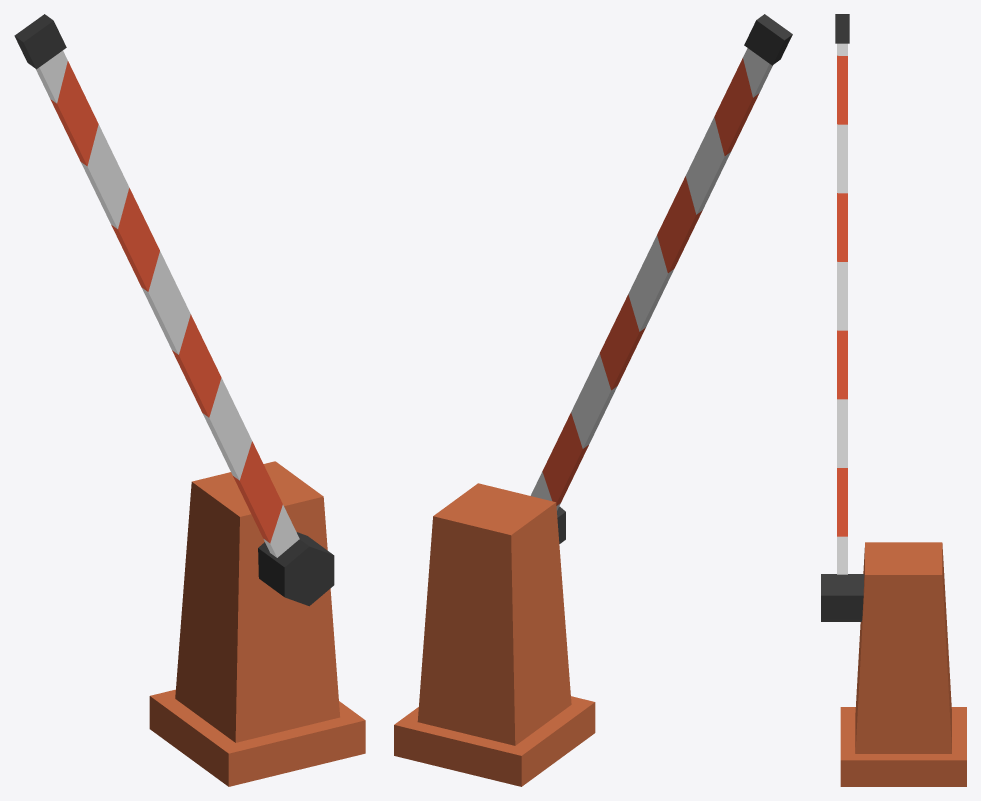
File: Train thing.fbx
The picture shows the model from 3 angles, left to right: view 1: azimuth 30°, elevation 25°; view 2: azimuth 150°, elevation 25°; view 3: azimuth 270°, elevation 25°; orthographic projection. The views are drawn at different scales.
Visible parts, largest first — view 1: Train thing; view 2: Train thing; view 3: Train thing.
Part boxes in pixels (bbox=[...]): Train thing: bbox=[14, 14, 365, 786]; Train thing: bbox=[394, 14, 792, 786]; Train thing: bbox=[821, 14, 966, 786].
Size of the model in its own units: 330 by 742 by 151.
